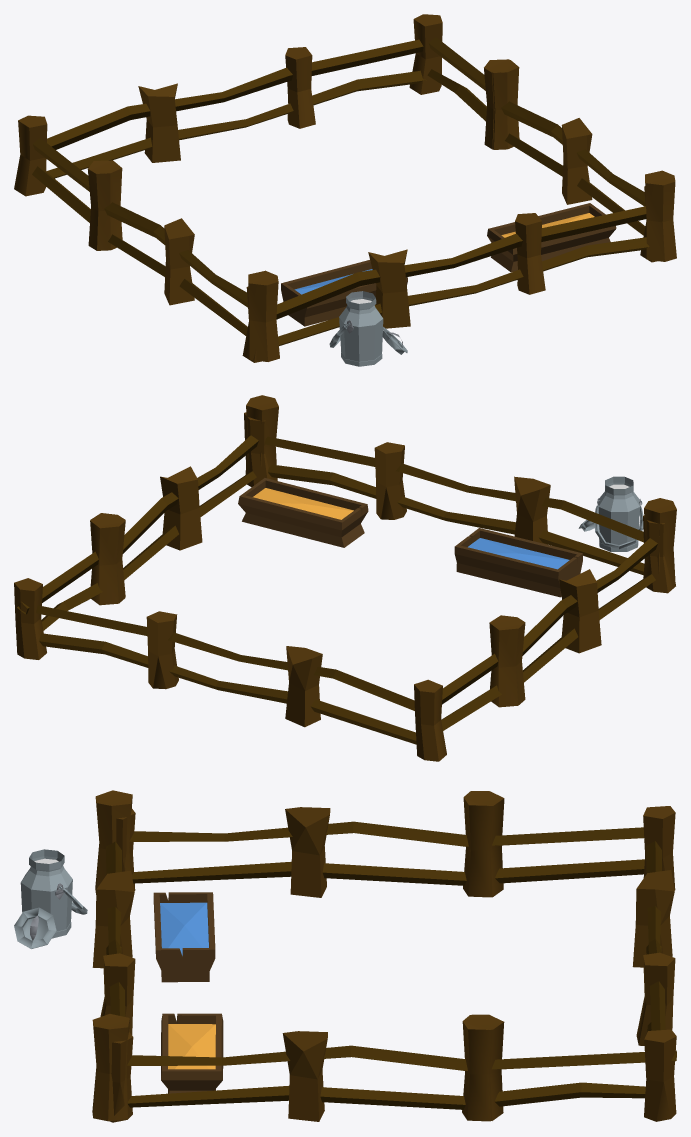
File: cows-fence.glb
The picture shows the model from 3 angles, top to bottom: view 1: azimuth 30°, elevation 25°; view 2: azimuth 150°, elevation 25°; view 3: azimuth 270°, elevation 25°; orthographic projection. The views are drawn at different scales.
Parts seen in each view (by area): view 1: fence; view 2: fence; view 3: fence.
Boxes of the visible parts, box(x1,y1,x2,y2) form: fence: box(14, 14, 676, 366); fence: box(14, 395, 676, 761); fence: box(14, 790, 676, 1122).
Bounding box in the file's own units: 7.1 × 1.33 × 8.04.
